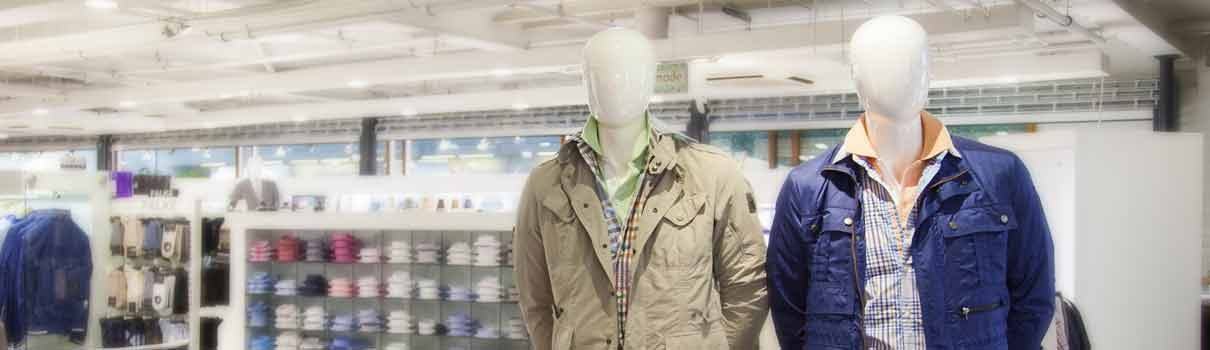person-like: (767, 8, 1062, 350), (507, 25, 769, 350)
